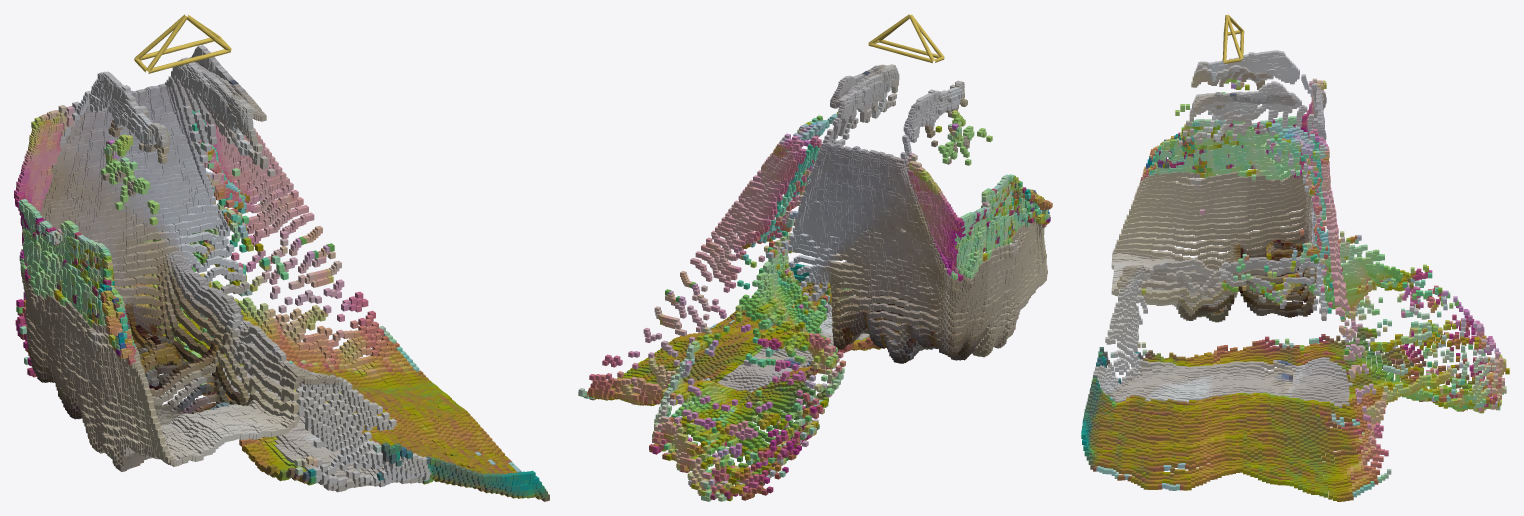
File: pred_2-compressed.glb
3 renders of one model, left to right at view 1: azimuth 30°, elevation 25°; view 2: azimuth 150°, elevation 25°; view 3: azimuth 270°, elevation 25°, orthographic. The views are drawn at different scales.
Bounding box in the file's own units: 4.39 × 4.73 × 4.93.
